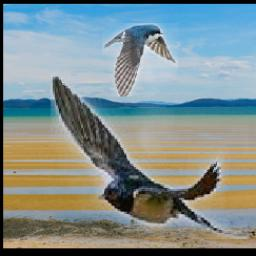Swallow: (51, 73, 249, 239), (102, 24, 178, 97)
